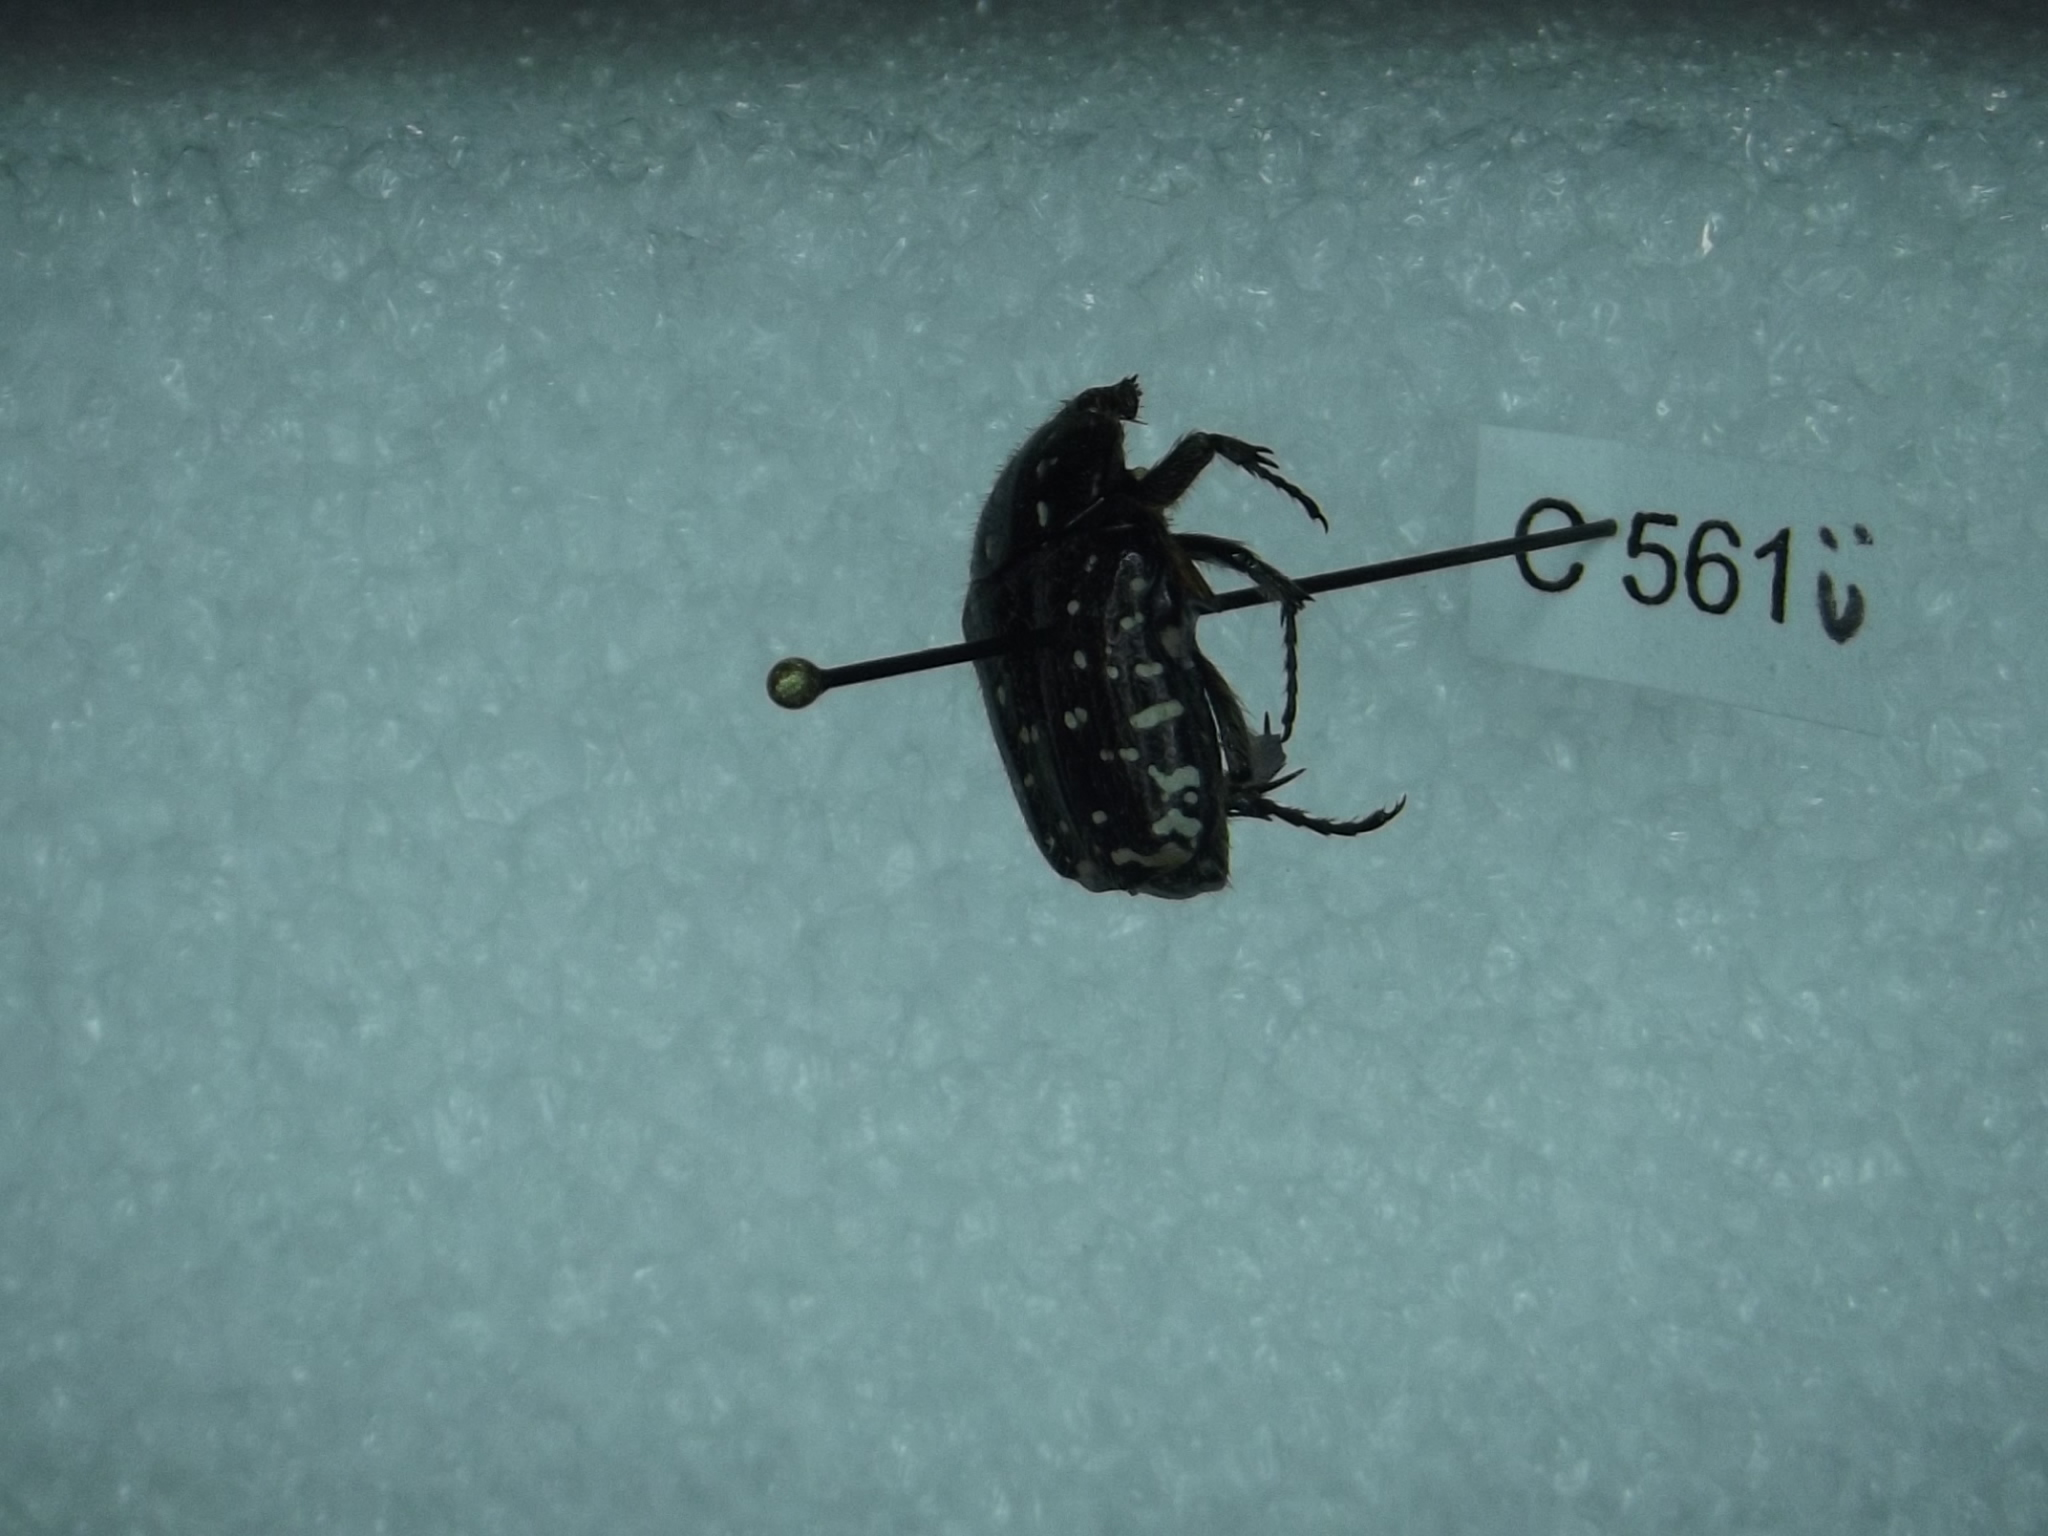Oxythyrea_funesta: (953, 353, 1414, 941)
